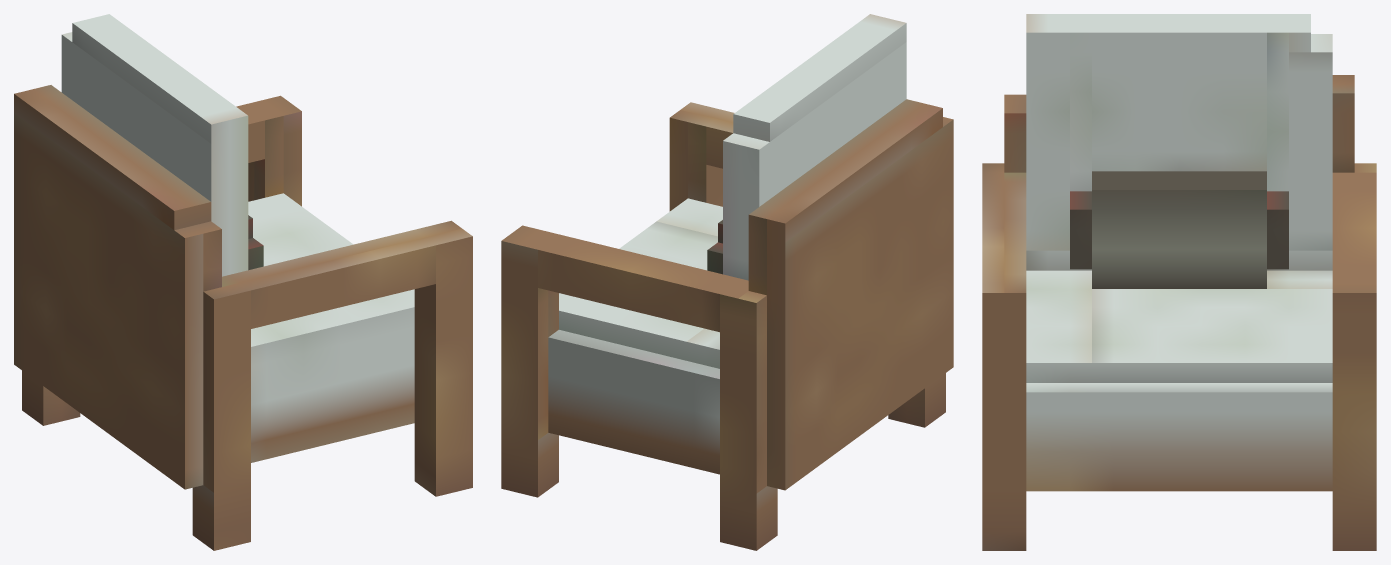
The model's file is ChairWhiteWithBrownPillow_03.obj.
The picture shows the model from 3 angles, left to right: view 1: azimuth 30°, elevation 25°; view 2: azimuth 150°, elevation 25°; view 3: azimuth 270°, elevation 25°; orthographic projection. The views are drawn at different scales.
Parts seen in each view (by area): view 1: ChairWhiteWithBrownPillow_03; view 2: ChairWhiteWithBrownPillow_03; view 3: ChairWhiteWithBrownPillow_03.
Boxes of the visible parts, x1,y1,x2,y2 form: ChairWhiteWithBrownPillow_03: [14, 14, 472, 550]; ChairWhiteWithBrownPillow_03: [501, 14, 953, 550]; ChairWhiteWithBrownPillow_03: [982, 14, 1376, 550].
Size of the model in its own units: 0.75 by 1.05 by 0.9.
